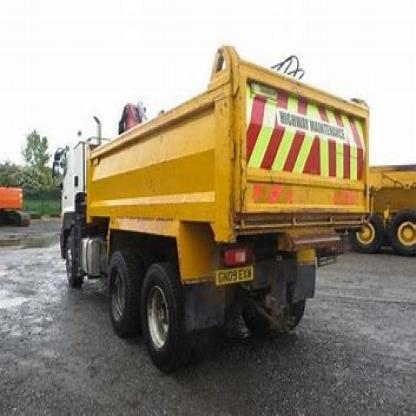dump_truck: (40, 40, 374, 366)
